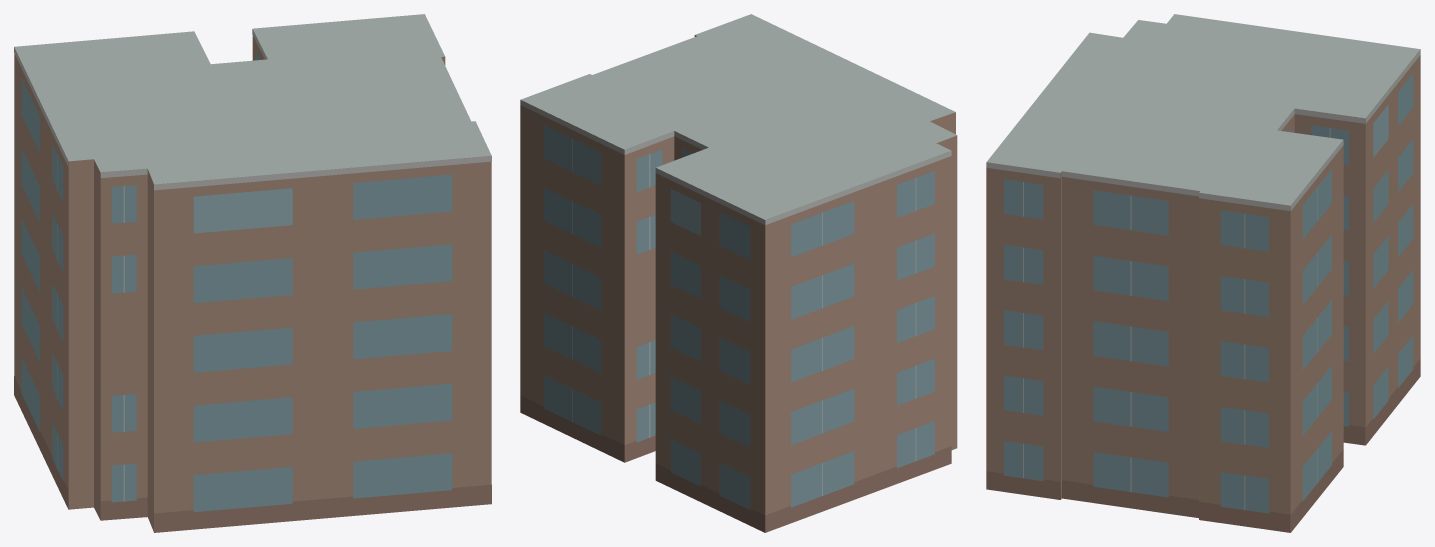
File: survey-upis-32844627.glb
3 renders of one model, left to right at view 1: azimuth 30°, elevation 25°; view 2: azimuth 150°, elevation 25°; view 3: azimuth 270°, elevation 25°, orthographic. The views are drawn at different scales.
Parts seen in each view (by area): view 1: survey-upis-32844627.tmp; view 2: survey-upis-32844627.tmp; view 3: survey-upis-32844627.tmp.
Boxes of the visible parts, bbox=[...] form: survey-upis-32844627.tmp: bbox=[14, 14, 491, 532]; survey-upis-32844627.tmp: bbox=[520, 14, 957, 532]; survey-upis-32844627.tmp: bbox=[986, 14, 1420, 532].
Size of the model in its own units: 18.23 by 14.5 by 17.45.
